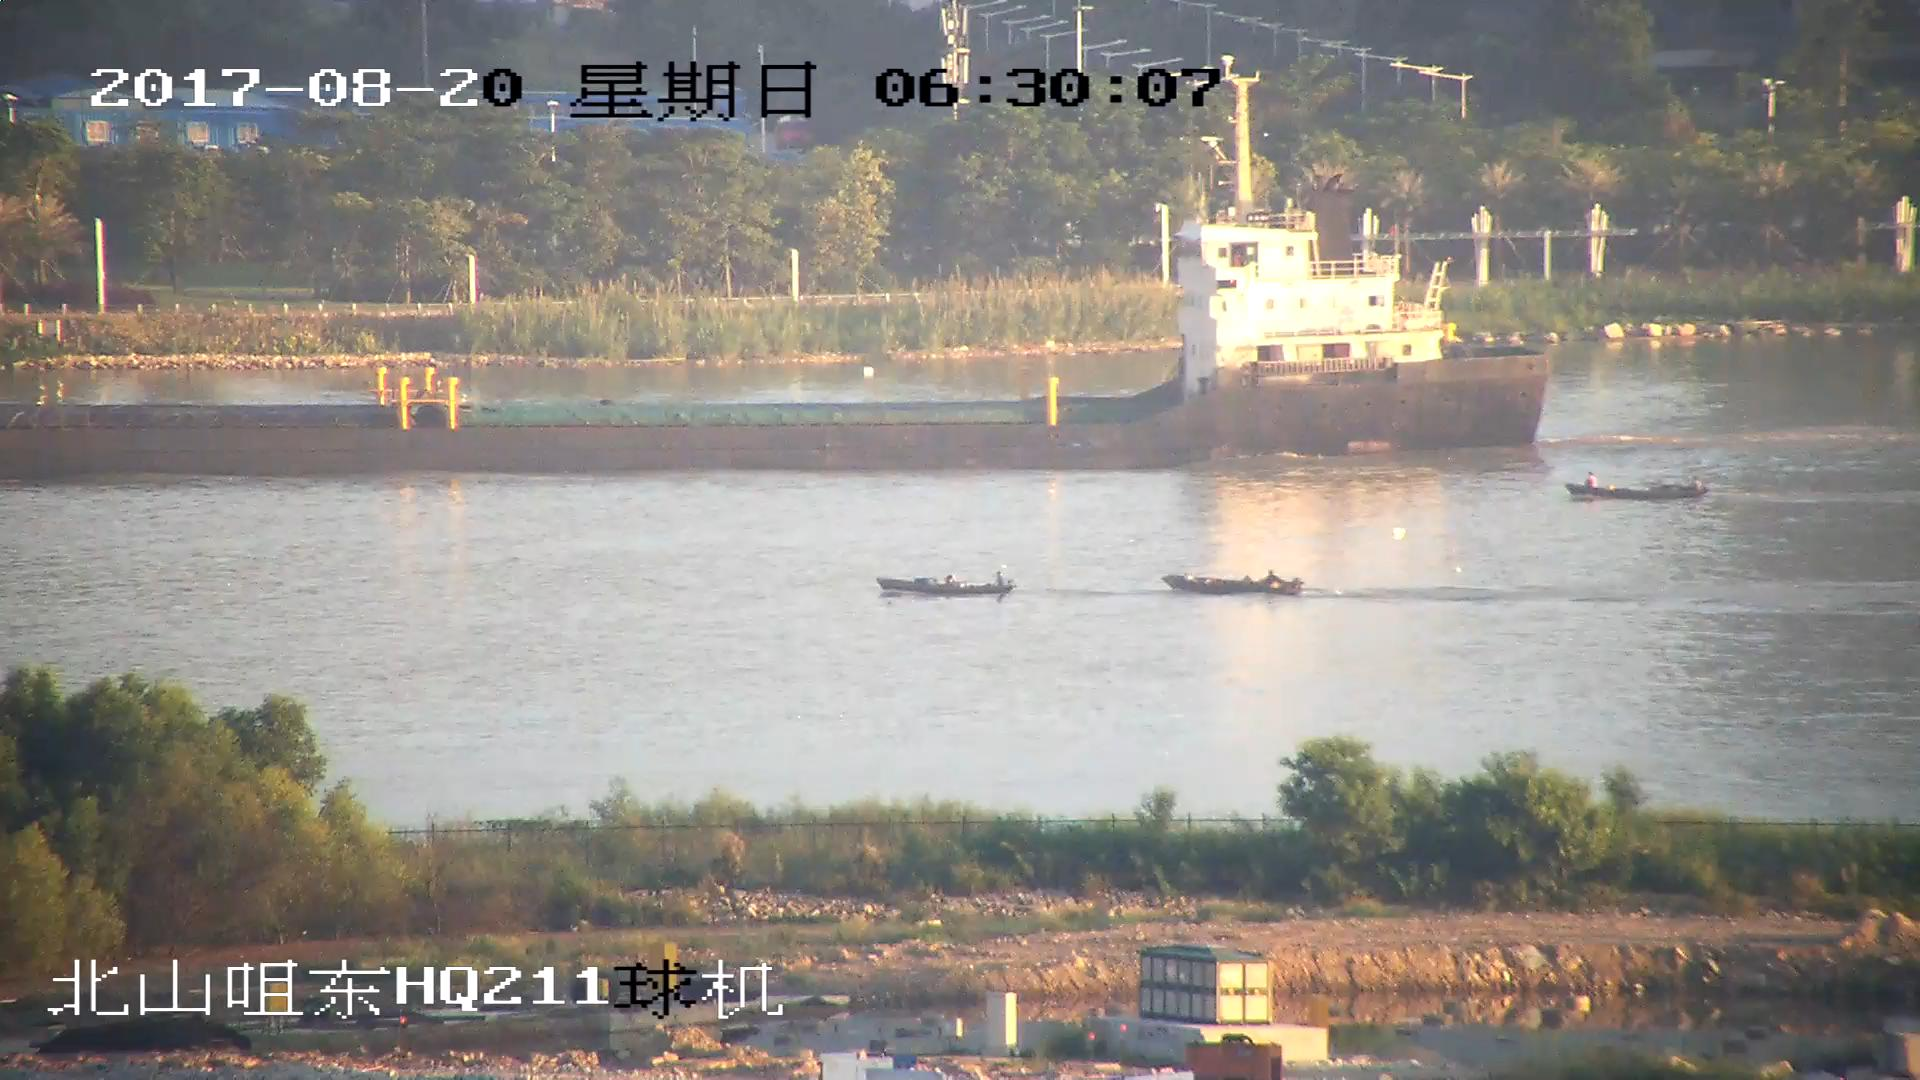fishing boat: (877, 568, 1013, 600), (1167, 570, 1305, 598), (1569, 476, 1707, 498)
general cargo ship: (1, 121, 1551, 476)
